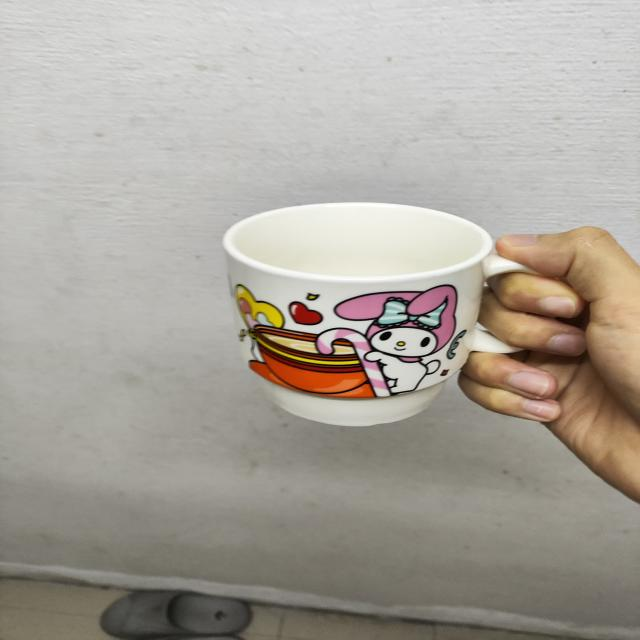cup: (206, 188, 570, 436)
